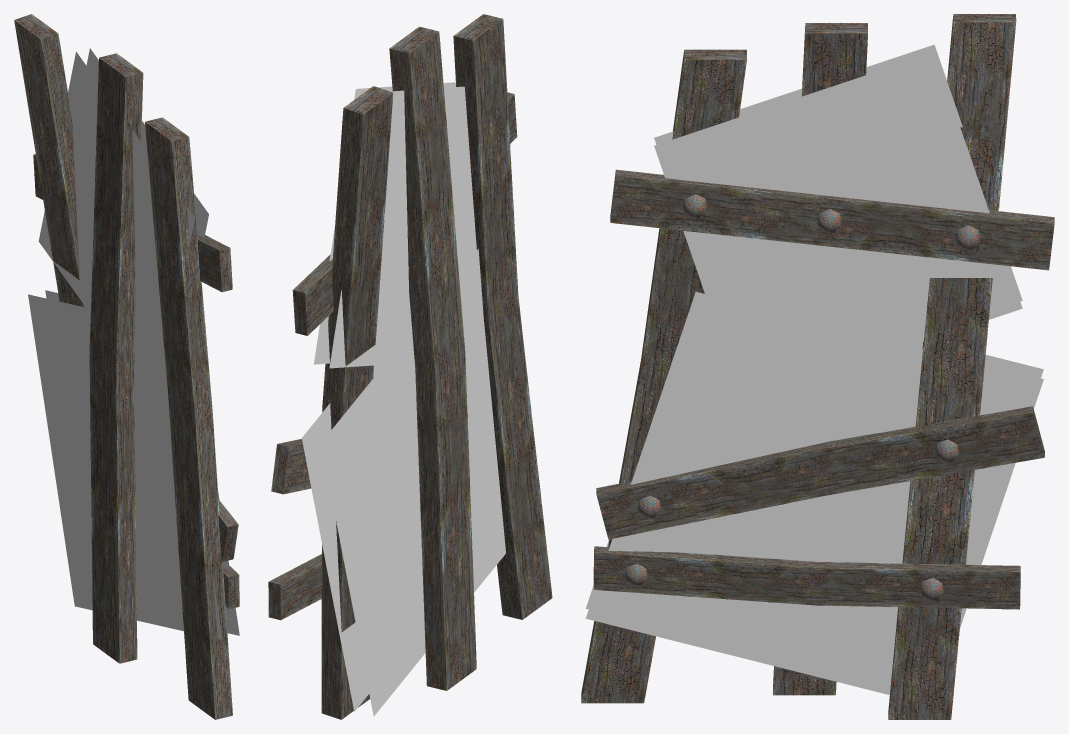
File: Wood_1.FBX
The picture shows the model from 3 angles, left to right: view 1: azimuth 30°, elevation 25°; view 2: azimuth 150°, elevation 25°; view 3: azimuth 270°, elevation 25°; orthographic projection. The views are drawn at different scales.
Visible parts, largest first — view 1: Box17; view 2: Box17; view 3: Box17.
Boxes of the visible parts, left/top/right/bottom form: Box17: left=14, top=14, right=239, bottom=719; Box17: left=268, top=14, right=552, bottom=719; Box17: left=581, top=14, right=1054, bottom=719.
Size of the model in its own units: 55.16 by 363 by 231.
Materials: 2 (2 with a texture image).
